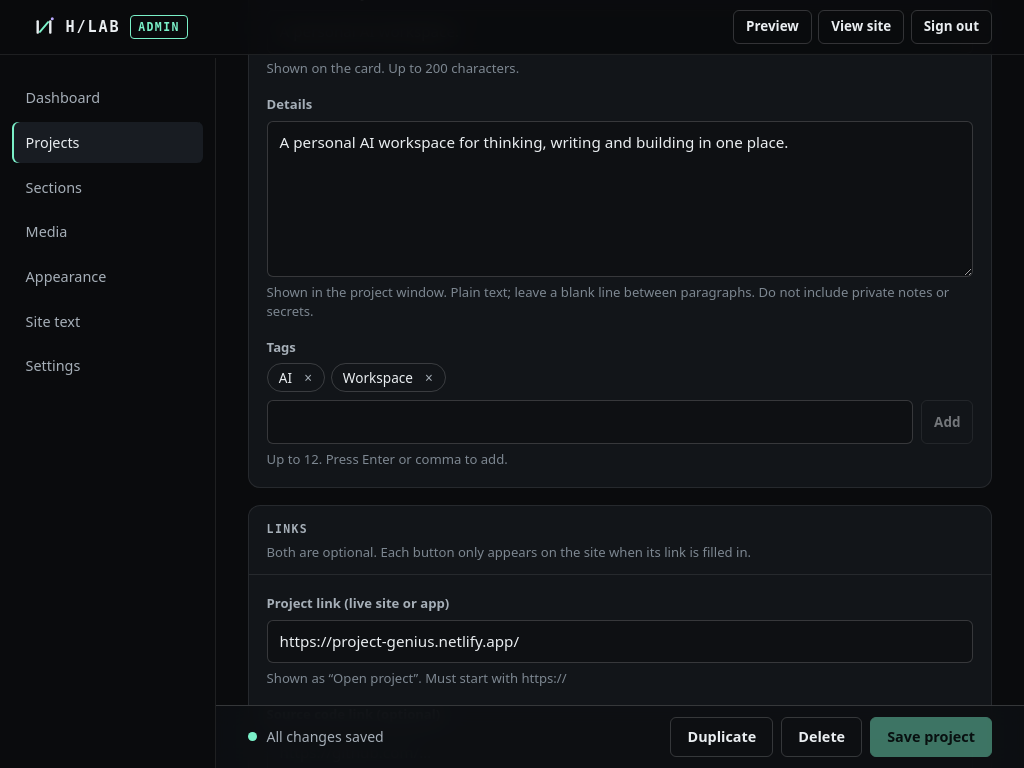
project editing › edits tags
(page scrolled)
Type "Fresh" into the field labelled "Tags". click: (590, 422)
box: [267,400,913,444]
Then press Enter
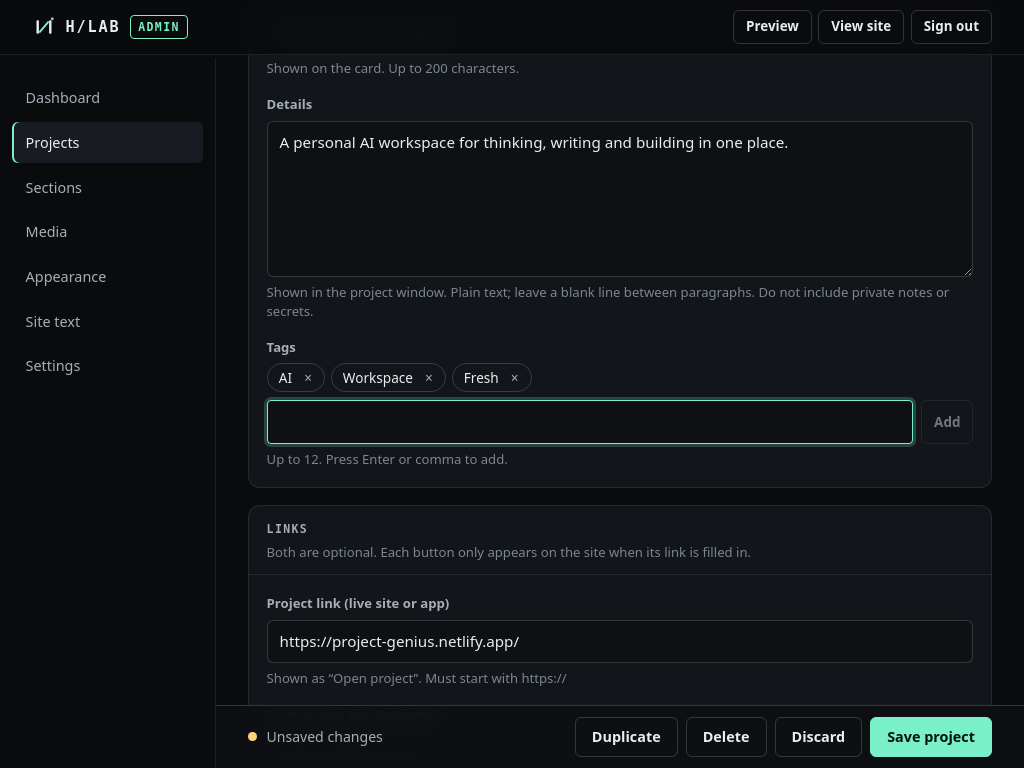
Click the button named "Remove Workspace". click: (429, 378)
box: [418,367,440,389]
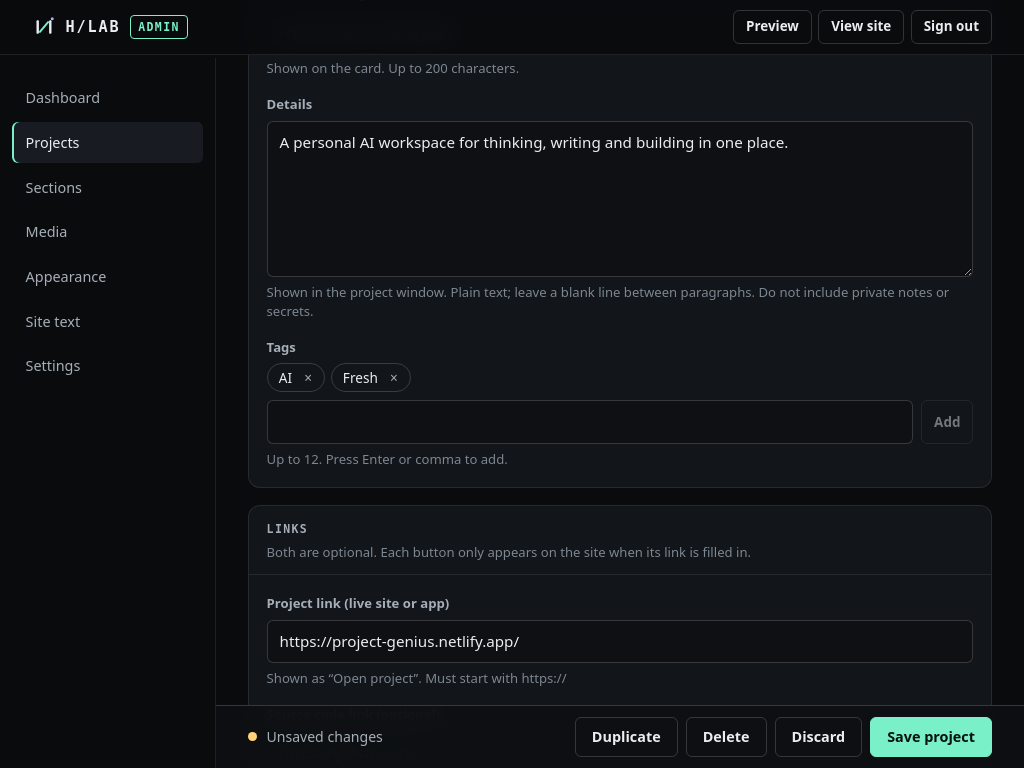
Click the button "Save project". click: (931, 737)
box: [870,717,992,757]
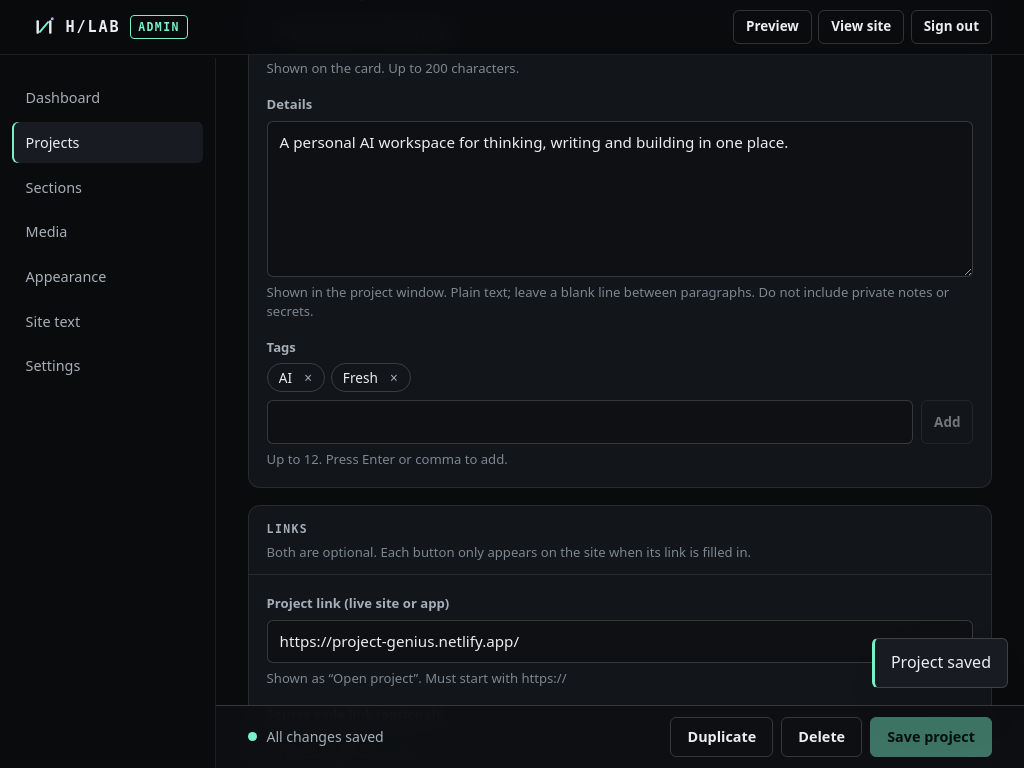
Now the text "Project saved" is shown, box [872,638,1008,688]
